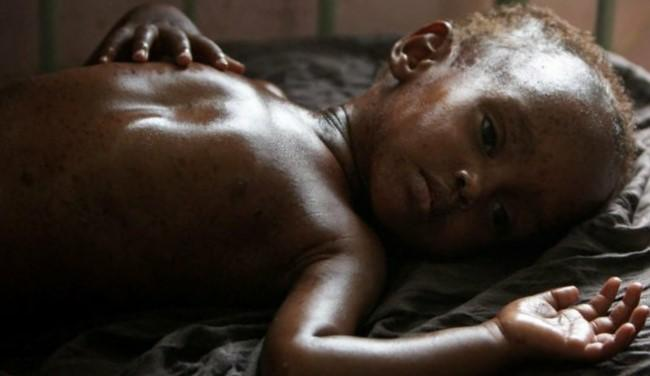Stunting: (303, 0, 650, 287)
